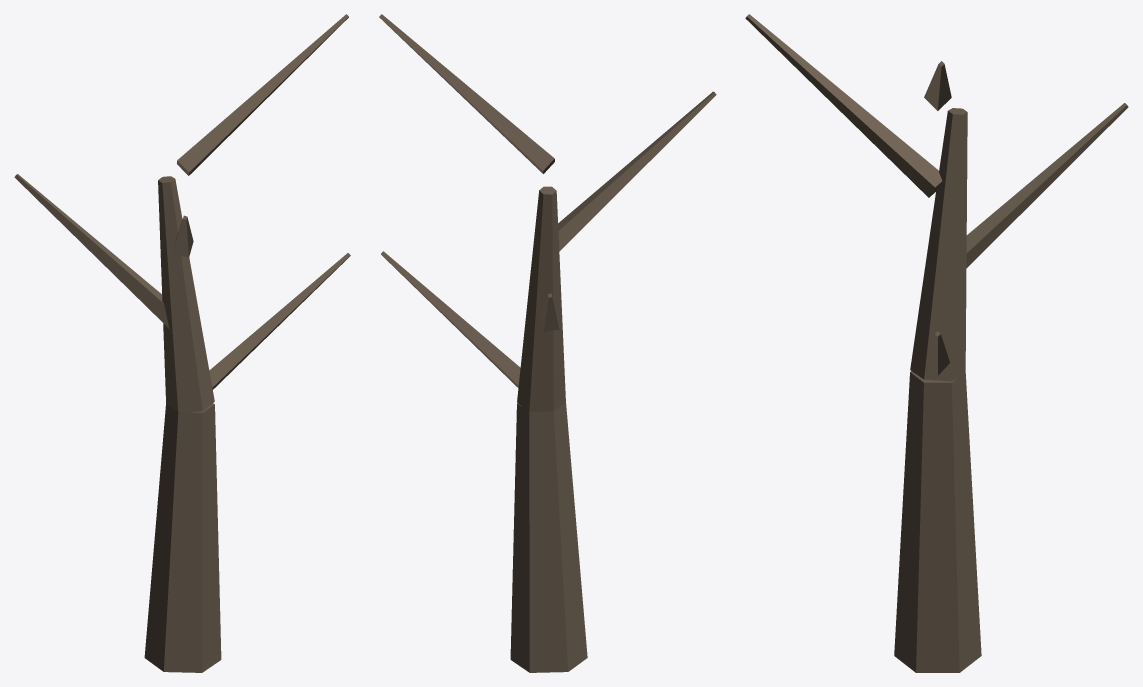
The model's file is nature_dead_a.glb.
3 renders of one model, left to right at view 1: azimuth 30°, elevation 25°; view 2: azimuth 150°, elevation 25°; view 3: azimuth 270°, elevation 25°, orthographic. The views are drawn at different scales.
Parts seen in each view (by area): view 1: nature_dead_a; view 2: nature_dead_a; view 3: nature_dead_a.
Part boxes in pixels (box(x1,y1,x2,y2)): nature_dead_a: box(14, 14, 350, 672); nature_dead_a: box(379, 14, 716, 672); nature_dead_a: box(745, 14, 1128, 672).
Bounding box in the file's own units: 1.68 × 3.82 × 1.93.
